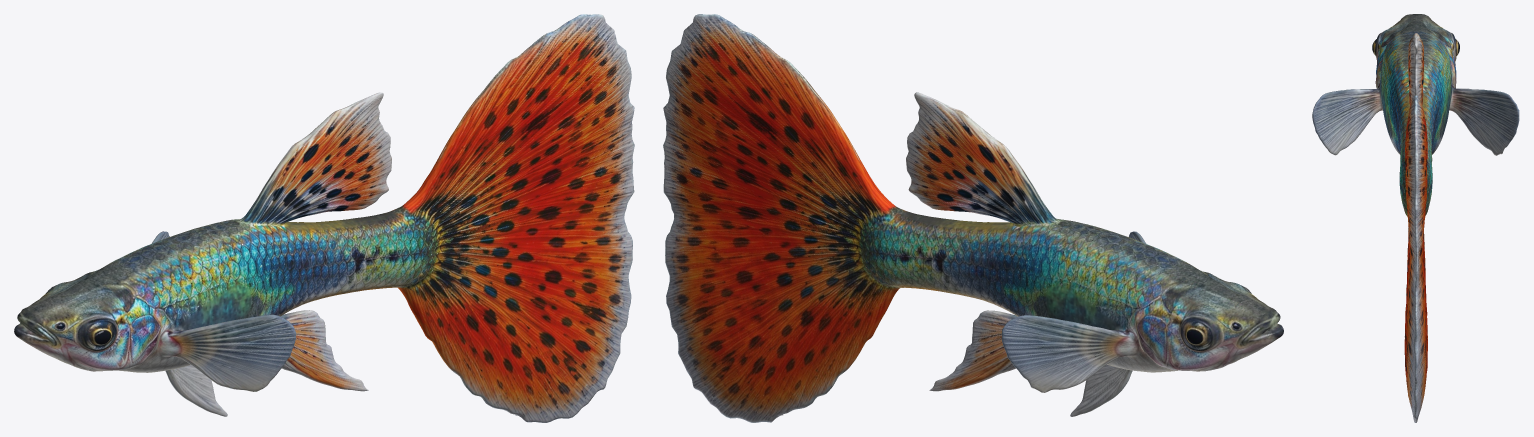
Rendered from guppy+fish+3d+model.glb.
3 views of the same model, side by side, from view 1: azimuth 30°, elevation 25°; view 2: azimuth 150°, elevation 25°; view 3: azimuth 270°, elevation 25° (orthographic). The views are drawn at different scales.
Parts seen in each view (by area): view 1: tripo_node_0dd6148a-599f-4604-8b3f-c94f93c59f34; view 2: tripo_node_0dd6148a-599f-4604-8b3f-c94f93c59f34; view 3: tripo_node_0dd6148a-599f-4604-8b3f-c94f93c59f34.
Boxes of the visible parts, left/top/right/bottom form: tripo_node_0dd6148a-599f-4604-8b3f-c94f93c59f34: left=14, top=14, right=634, bottom=422; tripo_node_0dd6148a-599f-4604-8b3f-c94f93c59f34: left=663, top=14, right=1283, bottom=422; tripo_node_0dd6148a-599f-4604-8b3f-c94f93c59f34: left=1312, top=14, right=1519, bottom=422.
Bounding box in the file's own units: 0.9974 × 0.6155 × 0.3535.
1 material, 1 textured.
